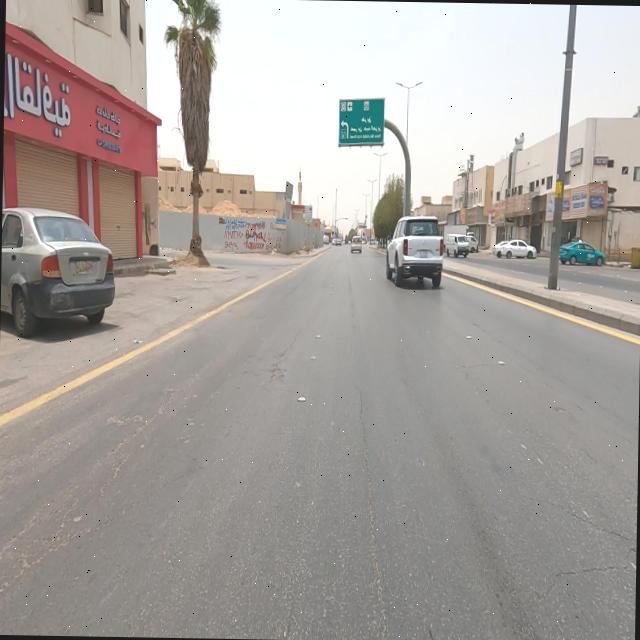Graffiti: (224, 218, 268, 252), (268, 223, 276, 252), (276, 232, 285, 252)
